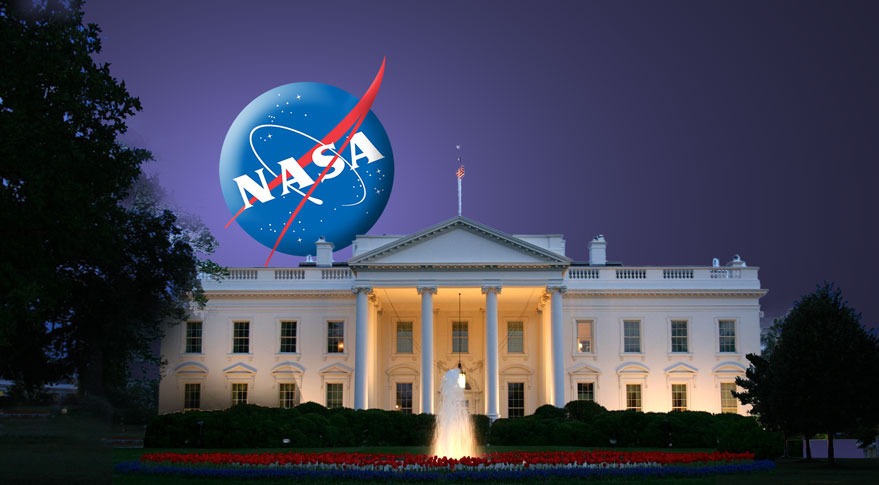NASA: (202, 50, 397, 271)
